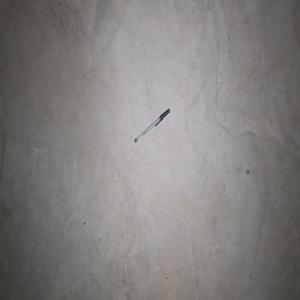Pen: (134, 108, 170, 142)
